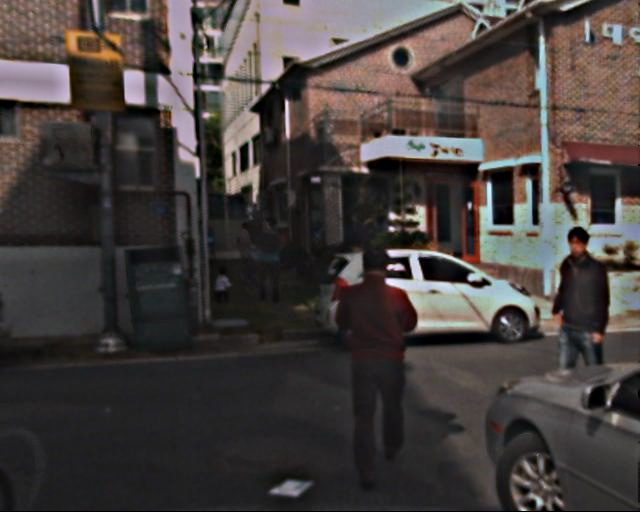person: (333, 247, 428, 478), (539, 229, 619, 446), (254, 216, 290, 305), (233, 220, 262, 285), (214, 263, 231, 304)
